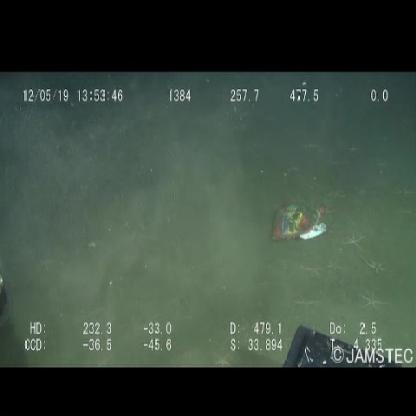Rov: (277, 316, 402, 368)
Rác: (268, 196, 329, 247)
